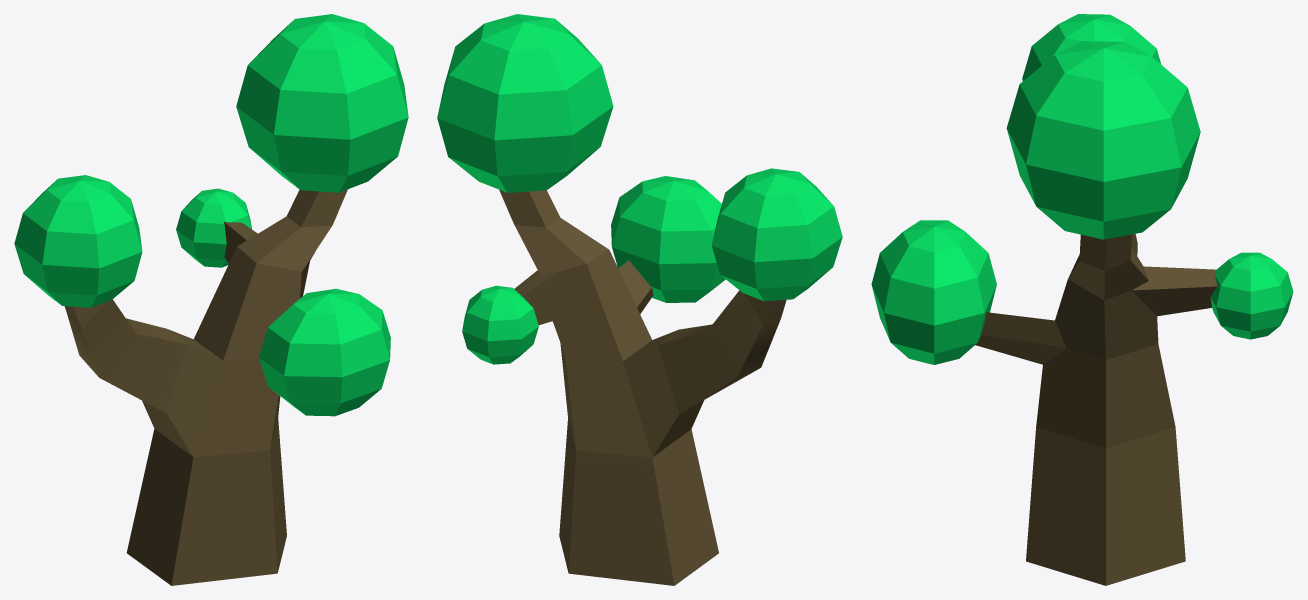
Rendered from tree_1.fbx.
The picture shows the model from 3 angles, left to right: view 1: azimuth 30°, elevation 25°; view 2: azimuth 150°, elevation 25°; view 3: azimuth 270°, elevation 25°; orthographic projection. The views are drawn at different scales.
Visible parts, largest first — view 1: tree_base, leaf_2, leaf_4, leaf_1, leaf_3; view 2: tree_base, leaf_2, leaf_4, leaf_1, leaf_3; view 3: tree_base, leaf_2, leaf_1, leaf_3, leaf_4.
Part boxes in pixels (<box>): tree_base: <box>64,189,347,585</box>; leaf_2: <box>236,14,408,192</box>; leaf_4: <box>14,175,142,307</box>; leaf_1: <box>258,288,390,416</box>; leaf_3: <box>176,188,251,267</box>; tree_base: <box>499,190,786,585</box>; leaf_2: <box>437,14,613,192</box>; leaf_4: <box>712,168,842,301</box>; leaf_1: <box>611,176,725,302</box>; leaf_3: <box>462,285,538,364</box>; tree_base: <box>975,234,1217,585</box>; leaf_2: <box>1006,41,1200,239</box>; leaf_1: <box>871,220,996,364</box>; leaf_3: <box>1210,252,1293,339</box>; leaf_4: <box>1022,14,1161,80</box>.
Size of the model in its own units: 6.61 by 8.39 by 5.76.
